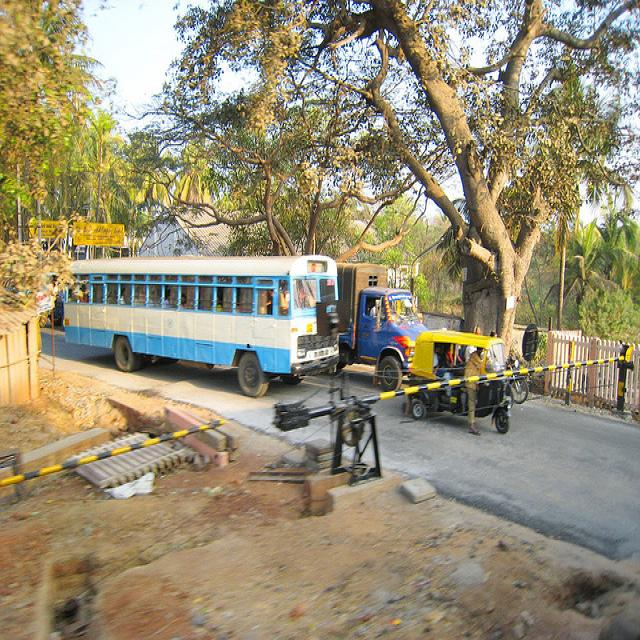motor: (505, 355, 529, 404)
